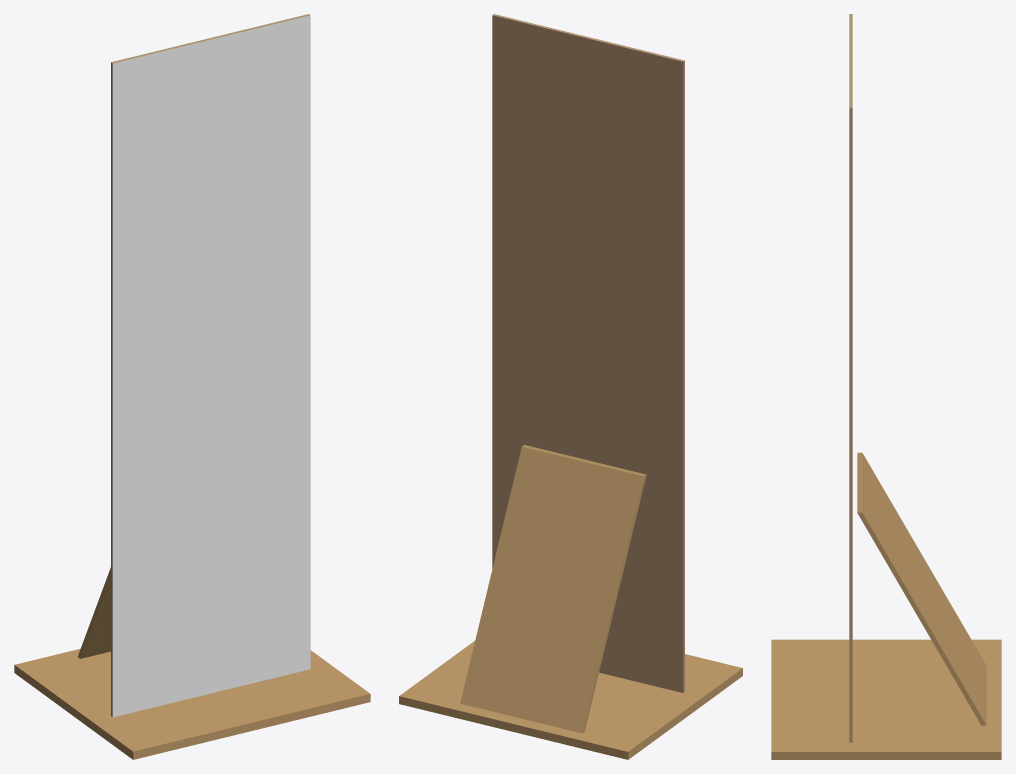
The model's file is cutout_stand.obj.
3 views of the same model, side by side, from view 1: azimuth 30°, elevation 25°; view 2: azimuth 150°, elevation 25°; view 3: azimuth 270°, elevation 25° (orthographic). The views are drawn at different scales.
Visible parts, largest first — view 1: CardboardCutout; view 2: CardboardCutout; view 3: CardboardCutout.
Part boxes in pixels (x1=…): CardboardCutout: x1=14, y1=14, x2=370, y2=759; CardboardCutout: x1=399, y1=14, x2=742, y2=759; CardboardCutout: x1=771, y1=14, x2=1001, y2=759.
Size of the model in its own units: 0.6 by 1.6 by 0.52.
